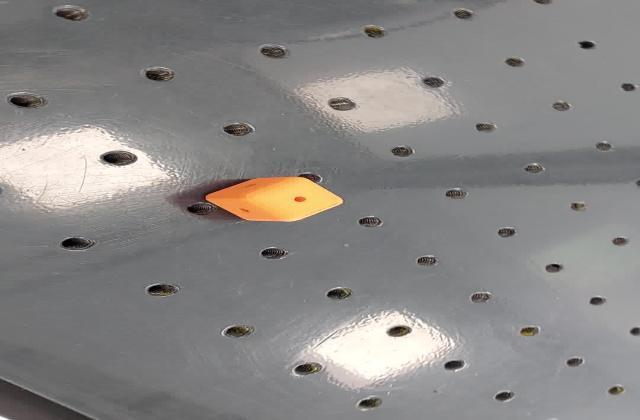cube: (191, 174, 353, 224)
